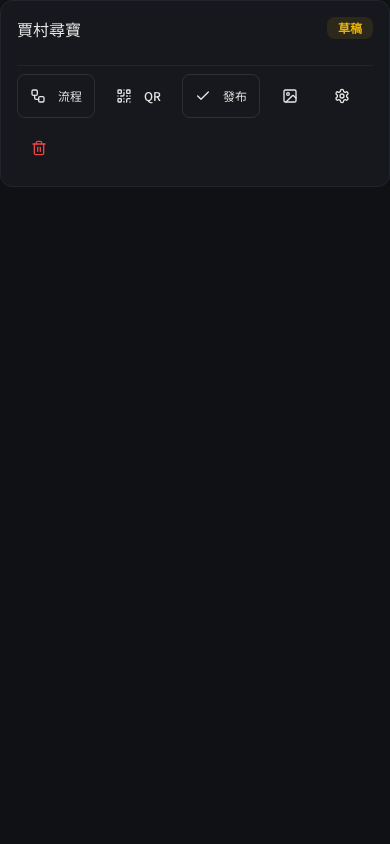
Test: GamesTable 發布前檢查 › 頁面缺必要欄位：列出第幾頁的問題
Click the button with test id "button-publish-g1" at (221, 96), box [182, 74, 260, 118]
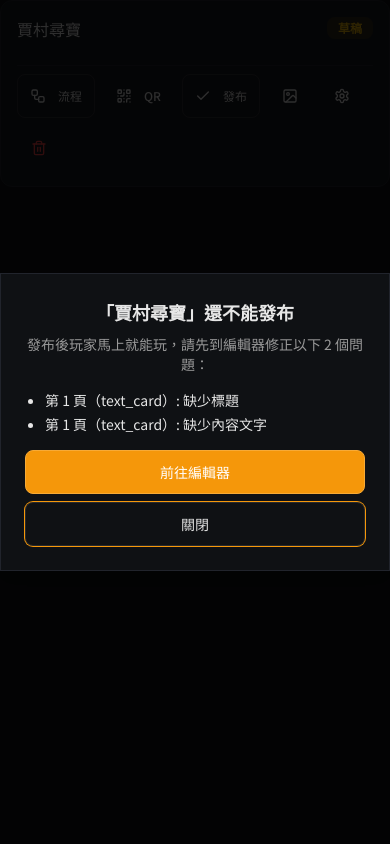
Expected: the dialog with test id "dialog-publish-blocked" shows "第 1 頁", [45, 390, 239, 410]
Expected: the dialog with test id "dialog-publish-blocked" shows "缺少標題", [45, 390, 239, 410]
